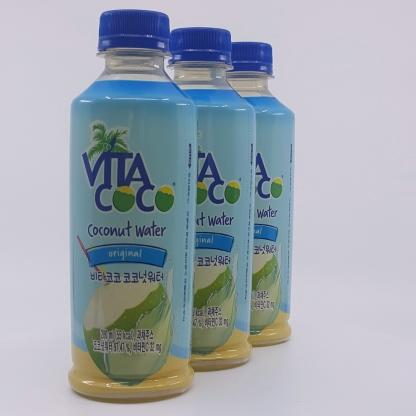----------280ml: (69, 9, 195, 404), (139, 27, 256, 373)
